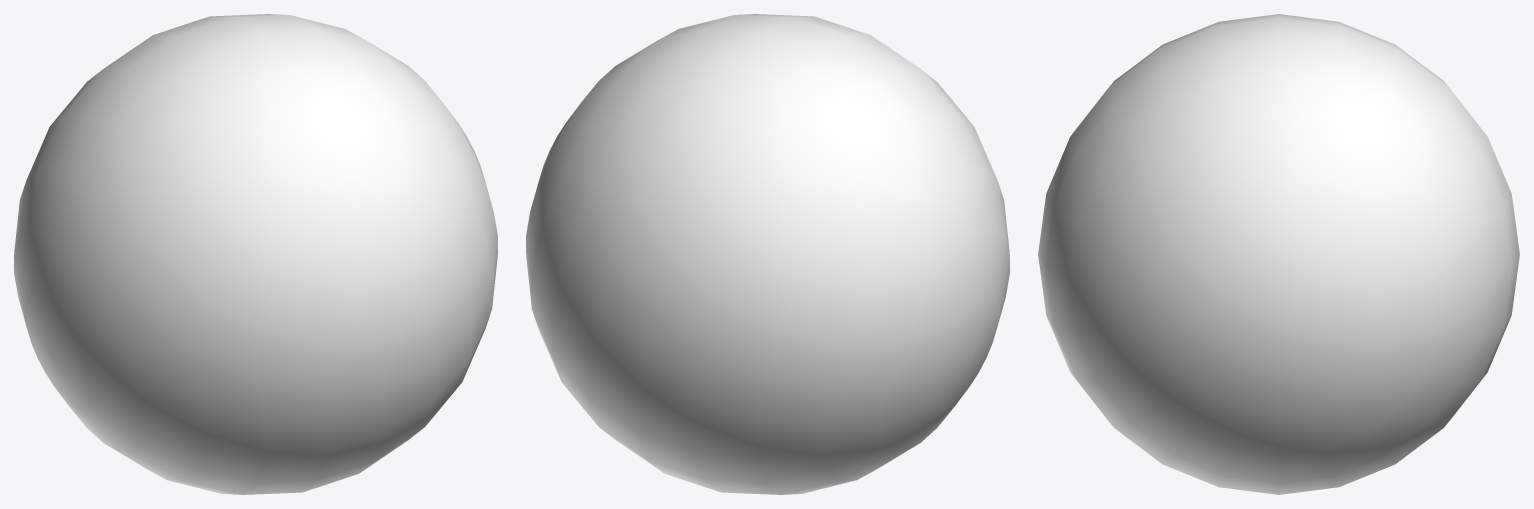
Rendered from fx_m10313_skill01.fbx.
3 renders of one model, left to right at view 1: azimuth 30°, elevation 25°; view 2: azimuth 150°, elevation 25°; view 3: azimuth 270°, elevation 25°, orthographic.
Visible parts, largest first — view 1: start_flow_01; view 2: start_flow_01; view 3: start_flow_01.
Boxes of the visible parts, <box> form: start_flow_01: <box>14,14,497,494</box>; start_flow_01: <box>526,14,1009,494</box>; start_flow_01: <box>1038,14,1519,494</box>.
Bounding box in the file's own units: 189 × 189 × 189.
2 materials, 2 textured.
